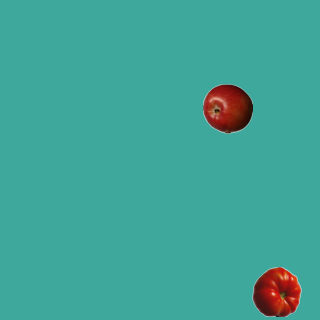Apple Braeburn: (202, 83, 252, 133)
Tomato 3: (251, 266, 301, 316)
